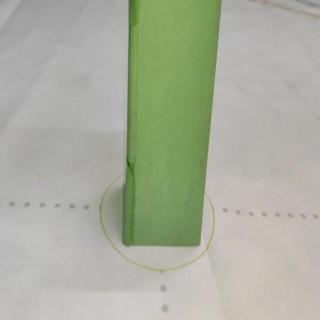greenbox: (125, 0, 221, 246)
